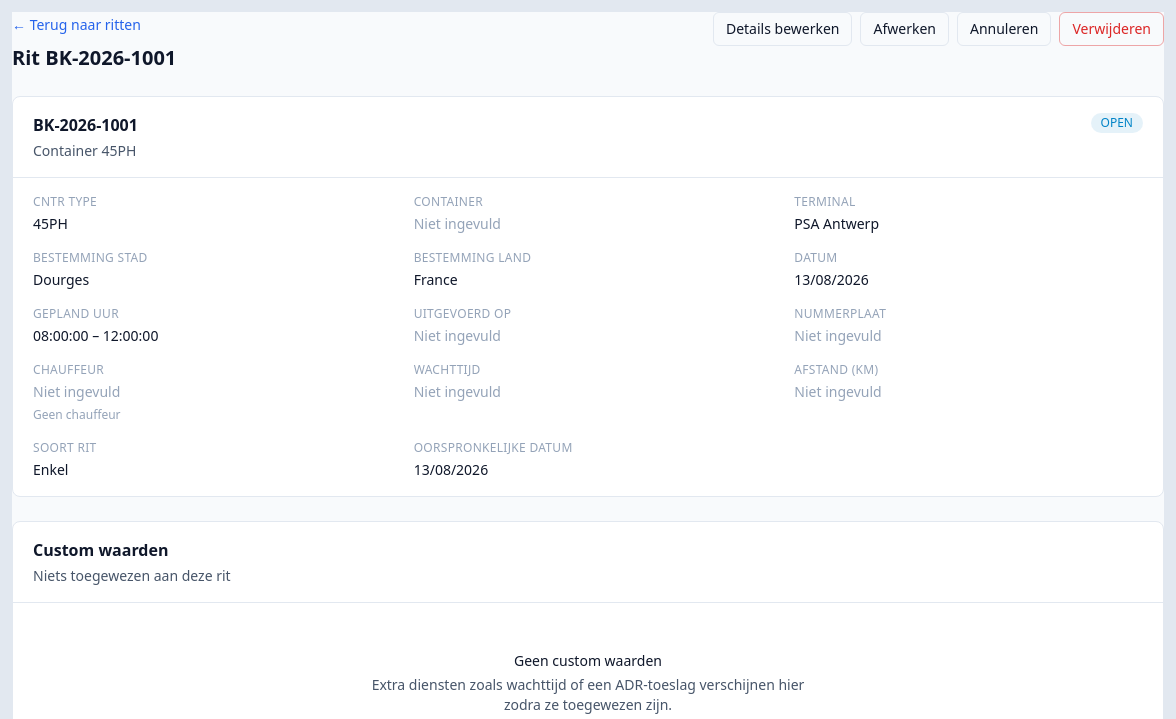
it: The vehicle picker › the vehicle picker › preselects the trip's current vehicle
Click the button "Details bewerken" at [783, 29], box 713,12 -> 852,46
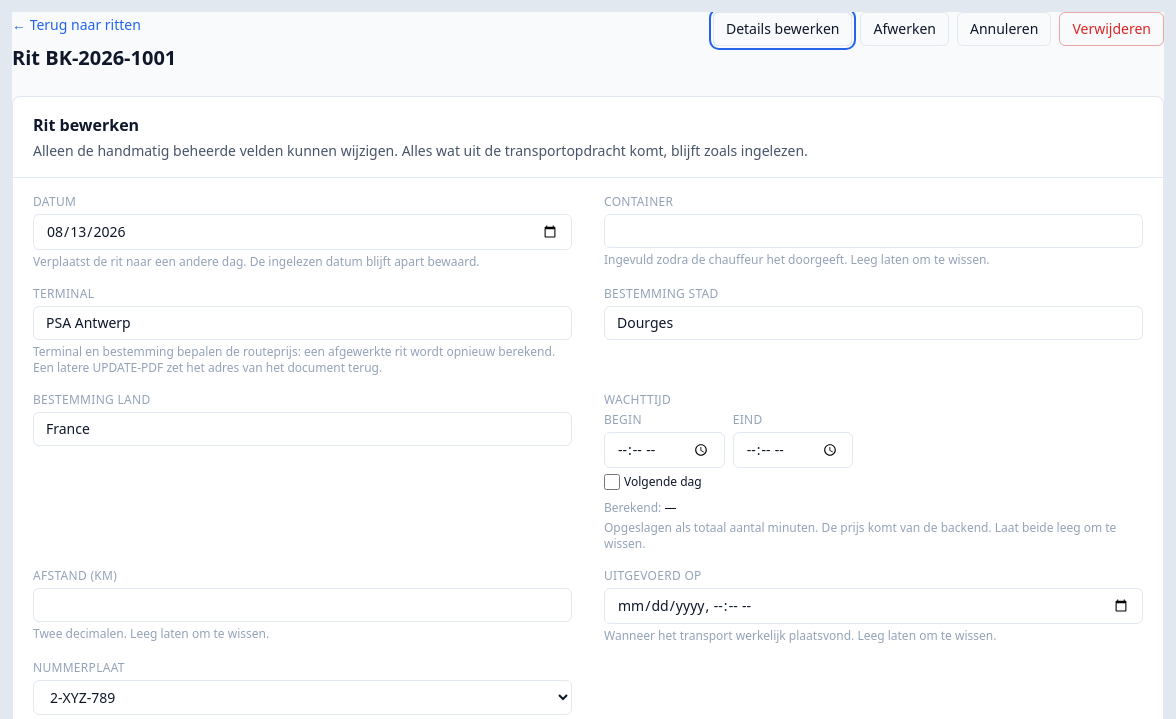
expect the dropdown labelled "Nummerplaat" shows "2-XYZ-789": met, box 33,680 -> 572,715
